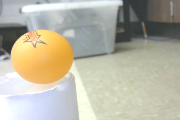PingPongBall: (12, 30, 73, 84)
